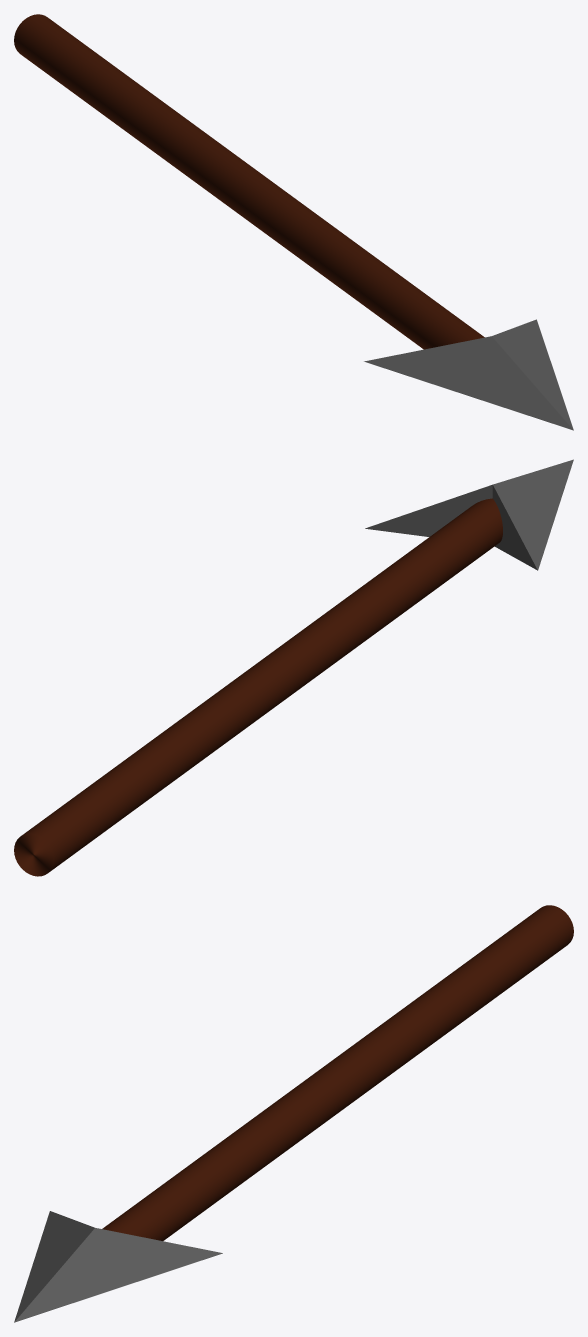
The model's file is Arrow.fbx.
3 renders of one model, top to bottom at view 1: azimuth 30°, elevation 25°; view 2: azimuth 150°, elevation 25°; view 3: azimuth 330°, elevation 25°, orthographic.
Parts seen in each view (by area): view 1: Cylinder; view 2: Cylinder; view 3: Cylinder.
Part boxes in pixels (<box>): Cylinder: <box>14,14,573,430</box>; Cylinder: <box>14,459,573,876</box>; Cylinder: <box>14,905,573,1322</box>.
Size of the model in its own units: 44.07 by 14.75 by 238.
